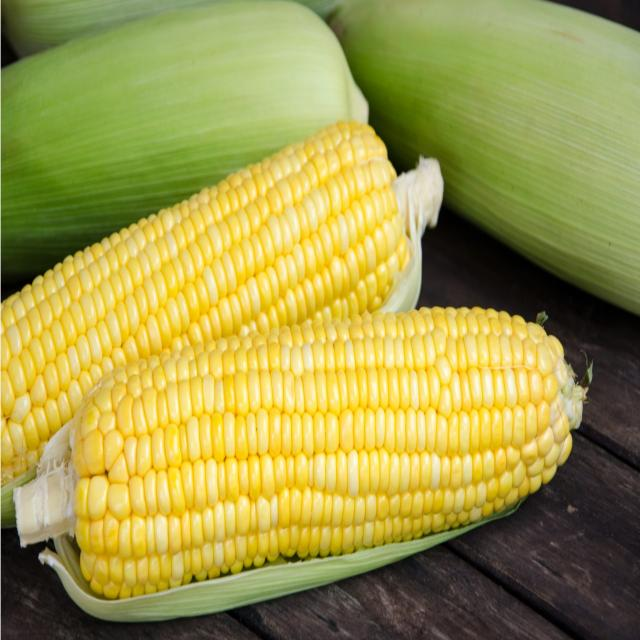corn: (91, 309, 573, 527), (70, 133, 395, 327)
